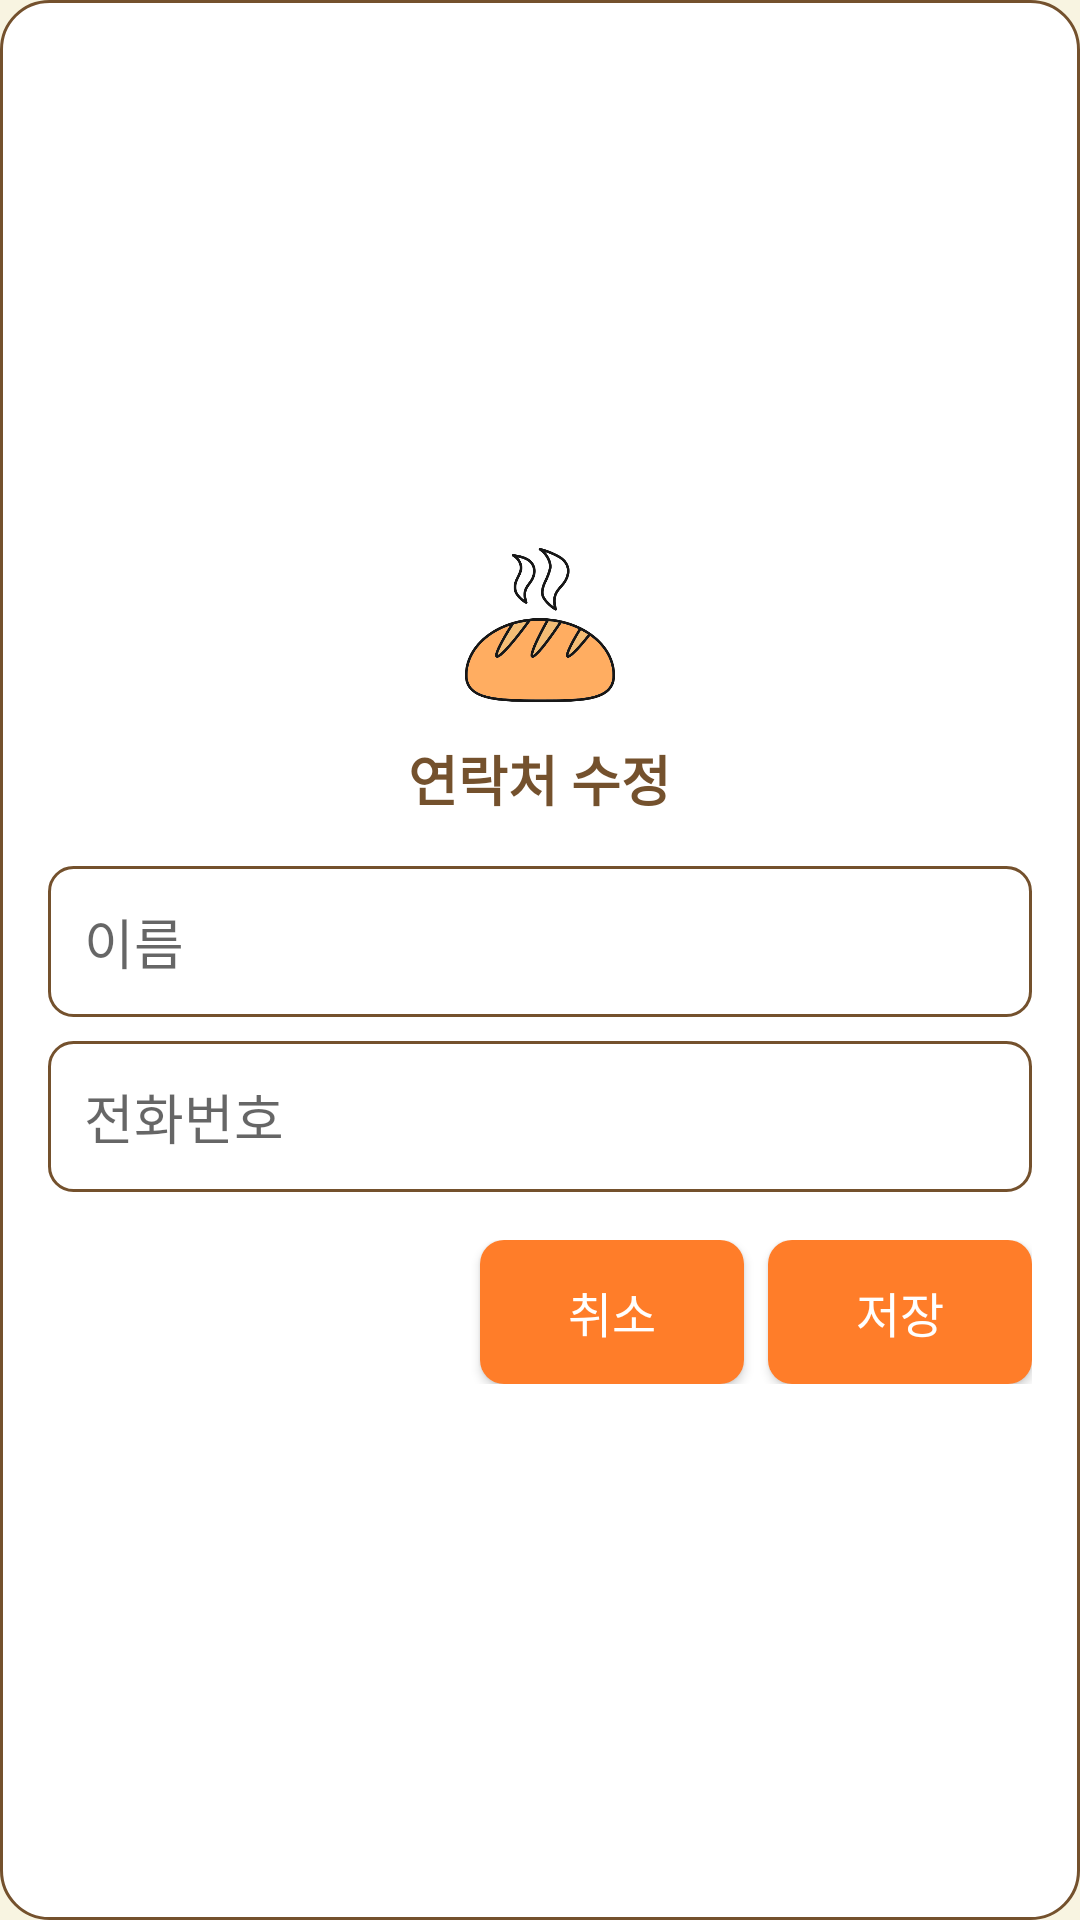

Screen size 1080 × 1920. Icon name, then its center in pixels as (x,y):
Bread Image: (540,625)
